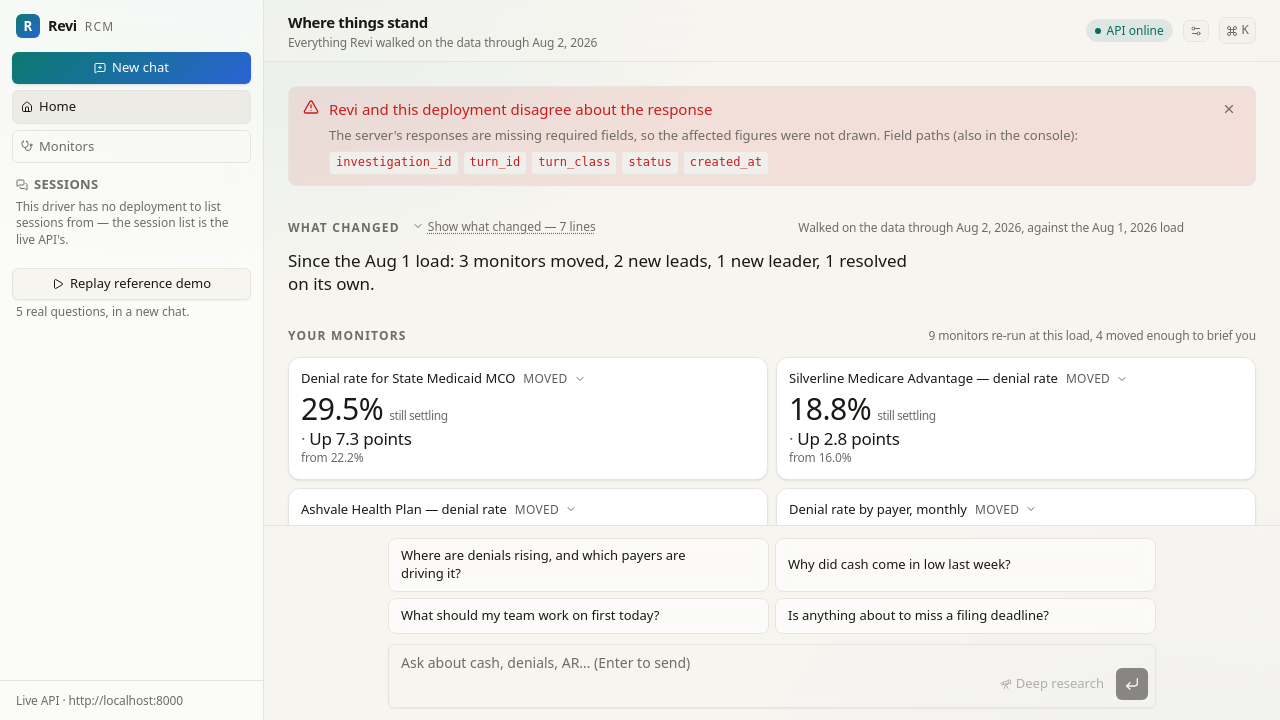
Scenario: Home — a monitor opens in place, into its own detail › shows the lines this monitor put in the brief, as the brief renders them
Click the button that starts with "Denial rate for State Medicaid MCO": [408, 378] box [289,358,767,479]
(page scrolled)
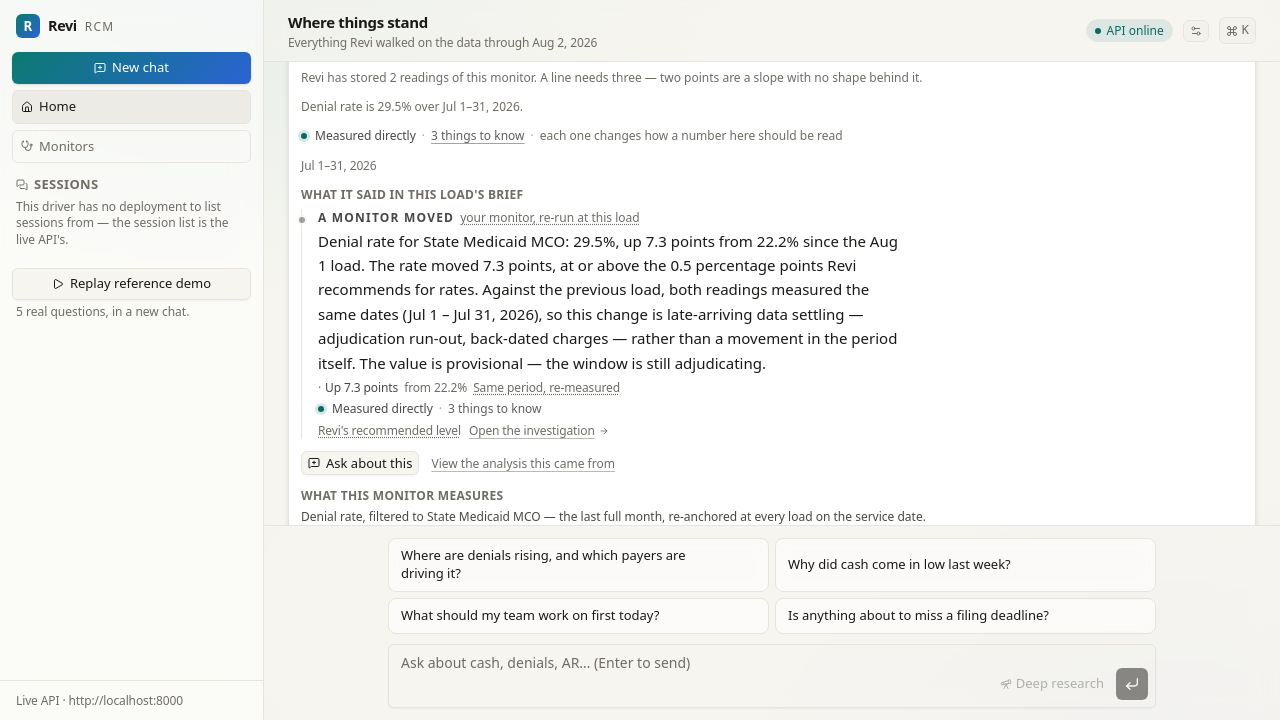
Check: the list item shows "What it said in this load's brief", box [301,186,524,203]
